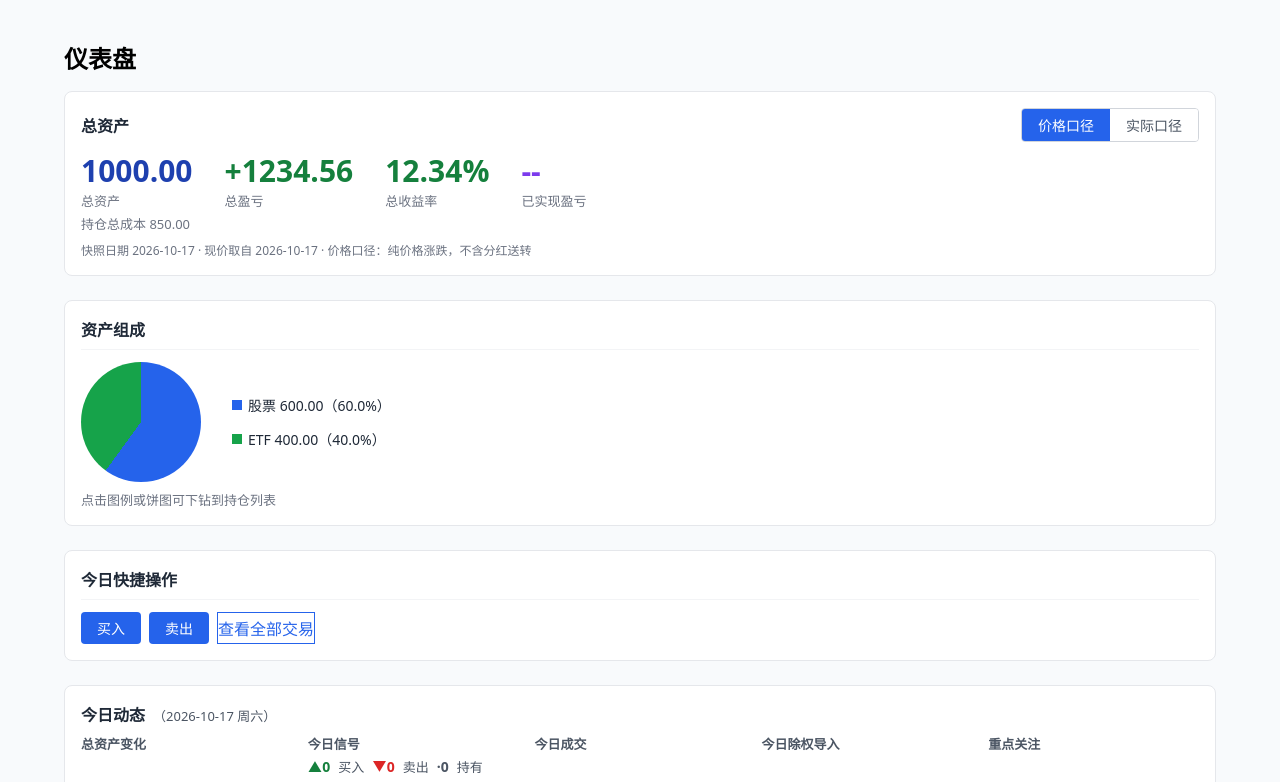
Test case: Dashboard · 双口径 Tab 切换 › 点击「实际口径」后切换为实际口径数值与说明文案
This screenshot has width=1280, height=782.
Expected: the text "总盈亏" is shown, [224,192,264,210]
Click the button "实际口径": (1154, 125) [1110,109,1198,141]
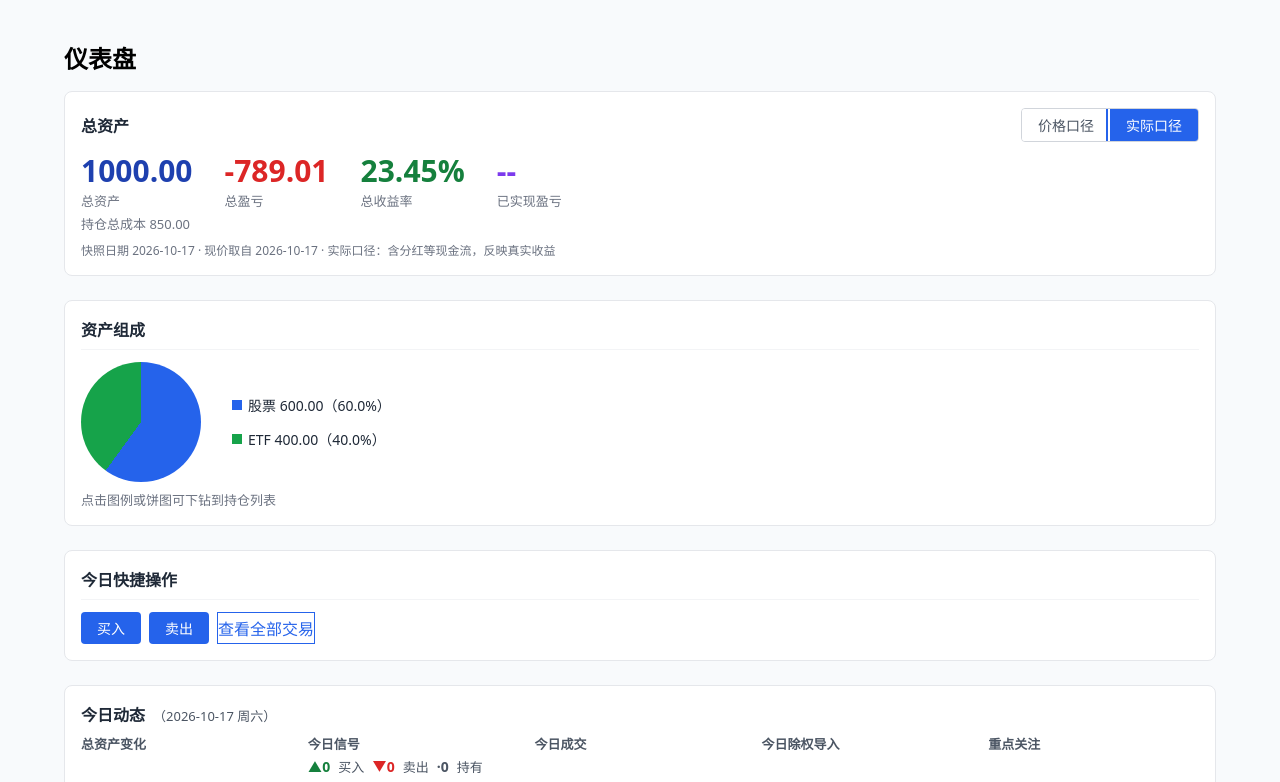
Now the text "快照日期 2026-10-17 · 现价取自 2026-10-17 · 实际口径：含分红等现金流，反映真实收益" is shown, box [81,242,556,259]
Now the text "价格口径：纯价格涨跌" is gone
